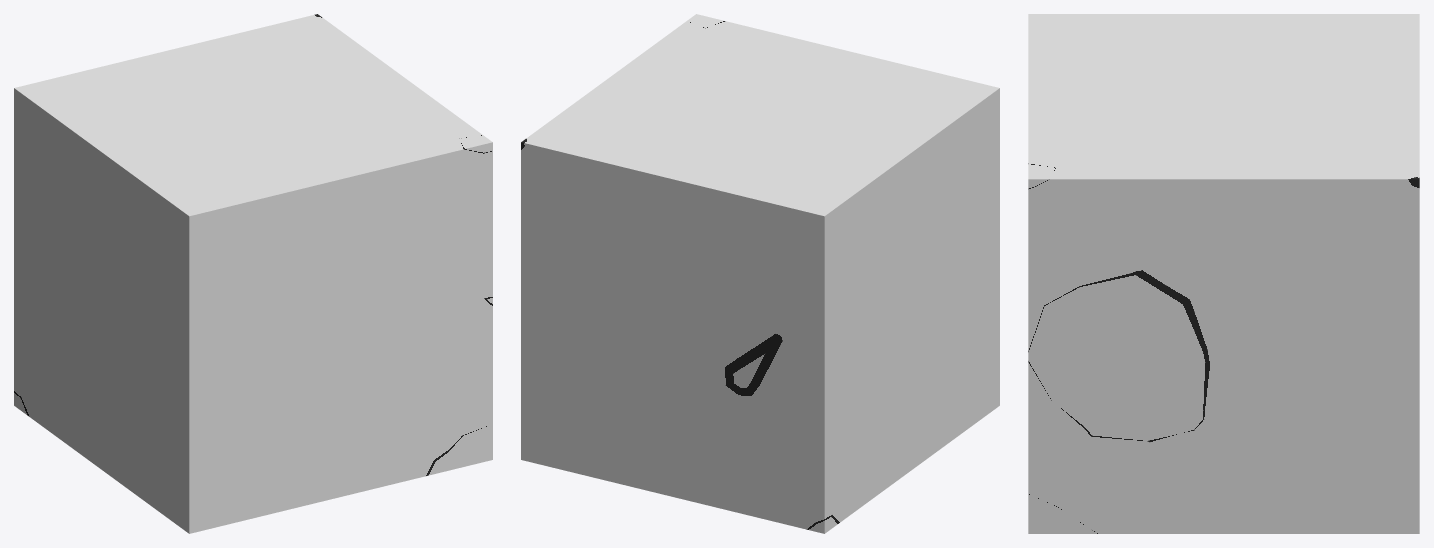
The model's file is cube_100mm_cgal_authalic_result.glb.
3 views of the same model, side by side, from view 1: azimuth 30°, elevation 25°; view 2: azimuth 150°, elevation 25°; view 3: azimuth 270°, elevation 25° (orthographic). The views are drawn at different scales.
Size of the model in its own units: 100 by 100 by 100.
1 material, 1 textured.
